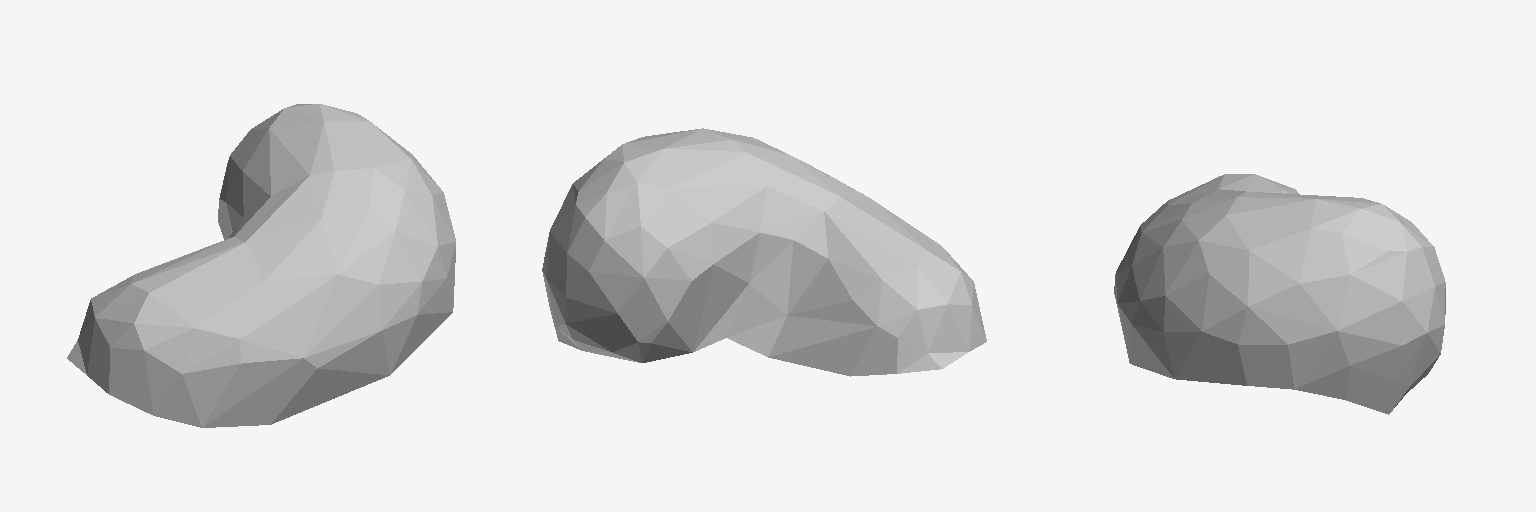
The model's file is stomac_col.obj.
3 views of the same model, side by side, from view 1: azimuth 30°, elevation 25°; view 2: azimuth 150°, elevation 25°; view 3: azimuth 270°, elevation 25° (orthographic).
Parts seen in each view (by area): view 1: stomac_Default.005; view 2: stomac_Default.005; view 3: stomac_Default.005.
Part boxes in pixels (left/top/right/bottom): stomac_Default.005: left=67, top=104, right=455, bottom=427; stomac_Default.005: left=542, top=128, right=986, bottom=376; stomac_Default.005: left=1114, top=174, right=1445, bottom=414.
Size of the model in its own units: 0.1594 by 0.0818 by 0.1238.